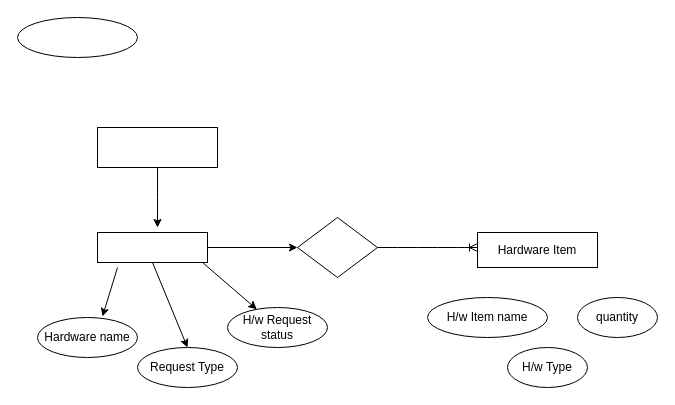
Image size: 675x405. Some labels were removed from this diagram. The shapes that lost their labels are listed below. From the top down, each one's centre as x and y in pixels, then its label:
point (152, 247): Hardware
point (337, 247): has
